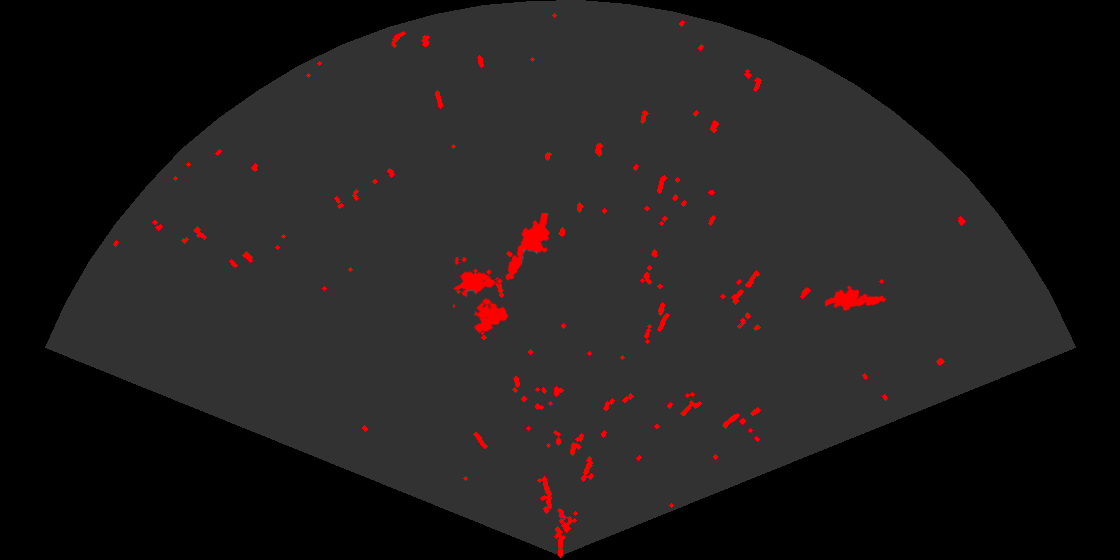cage: (453, 257, 510, 335)
frogman: (504, 213, 551, 282), (825, 284, 888, 313)
